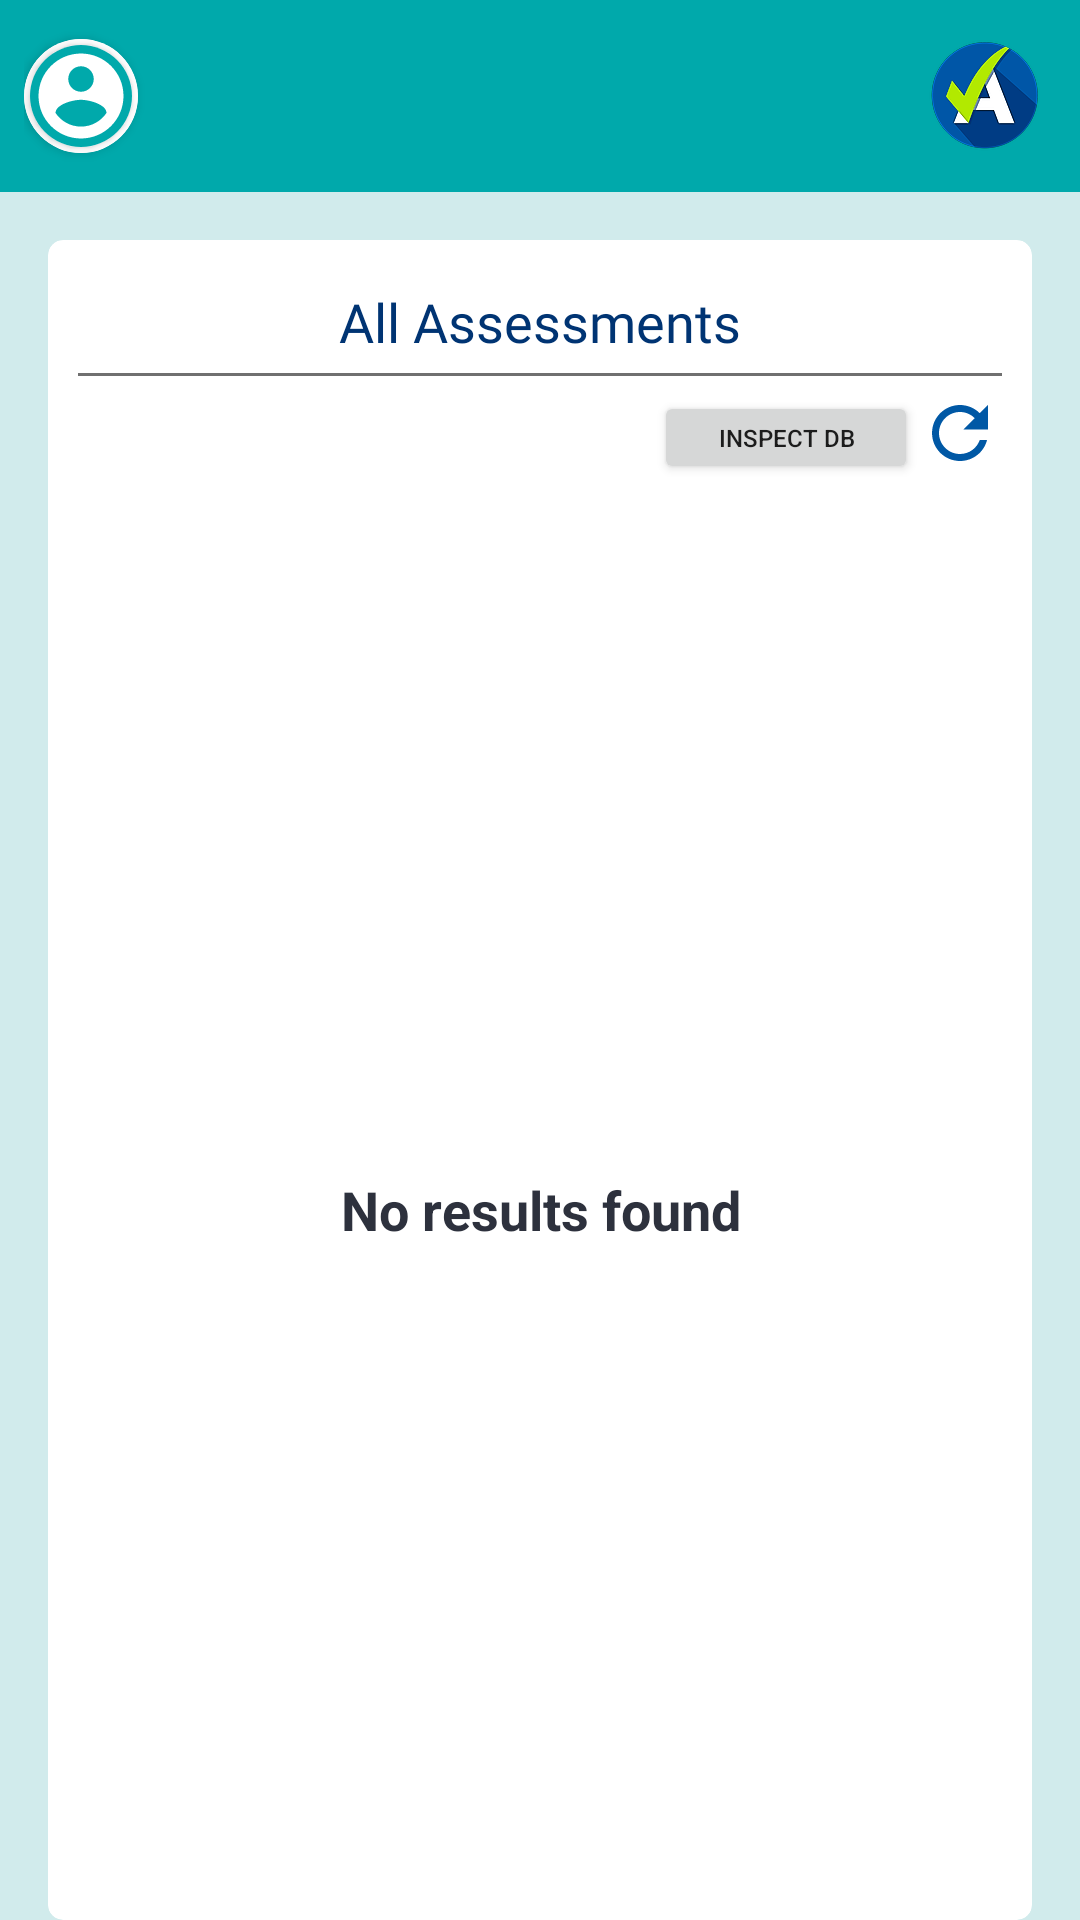

Screen size 1080w x 1920h. Icon name, then its box in pixels as (x1, y1, x2, y2):
profile nav: (38, 53, 124, 139)
Re-Sync Applications: (932, 405, 988, 461)
